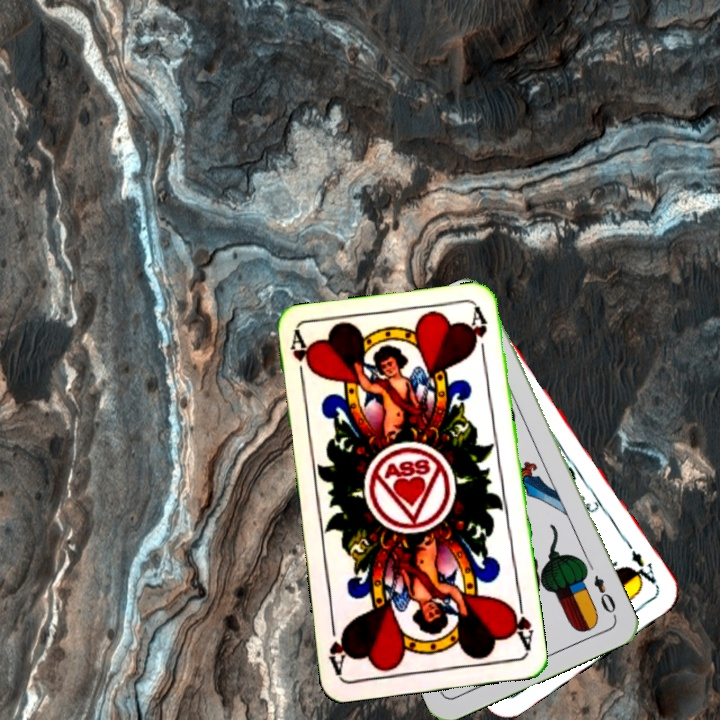EA: (622, 538, 661, 590)
EO: (589, 571, 619, 620)
HA: (505, 593, 536, 652), (285, 329, 315, 389)
